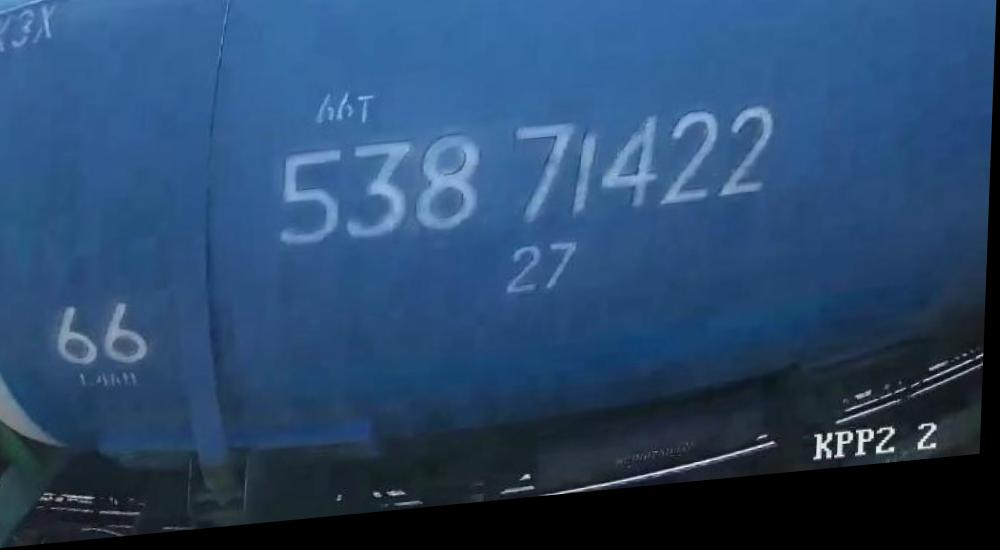Wagon-number: (276, 113, 778, 256)
